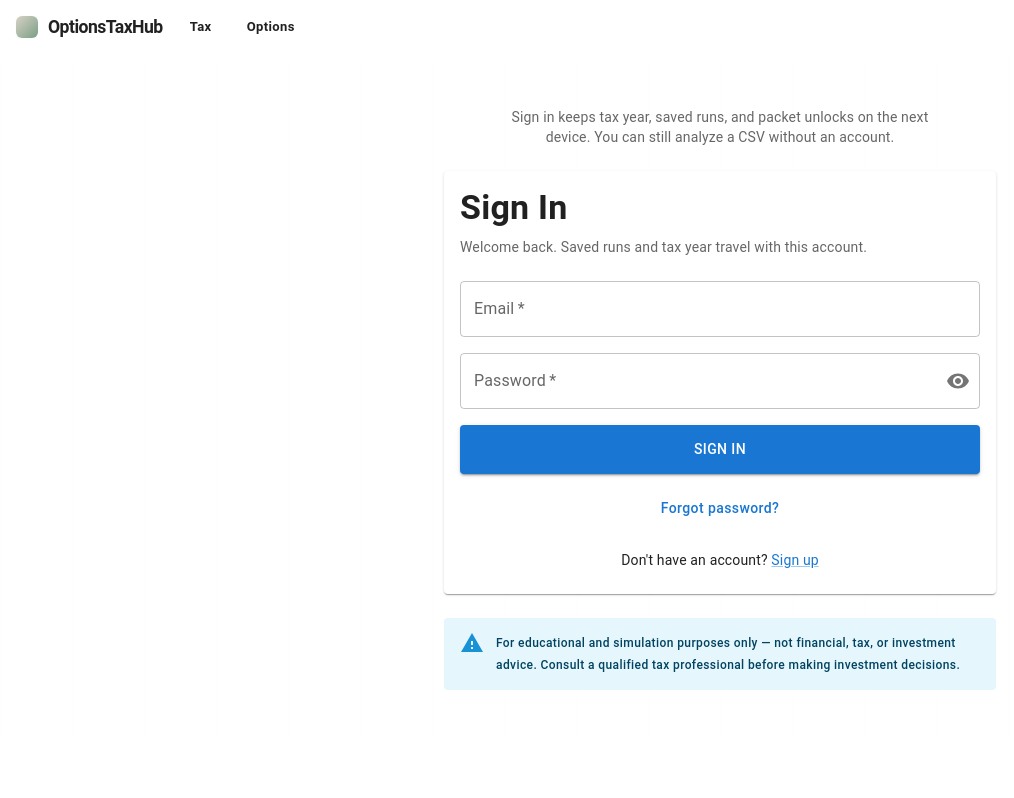
Test: Sign In Page › shows a resend-confirm control when the account is unconfirmed
Type "new@example.com" into the field labelled "Email *". click: {"x": 720, "y": 309}
box: [460,281,980,337]
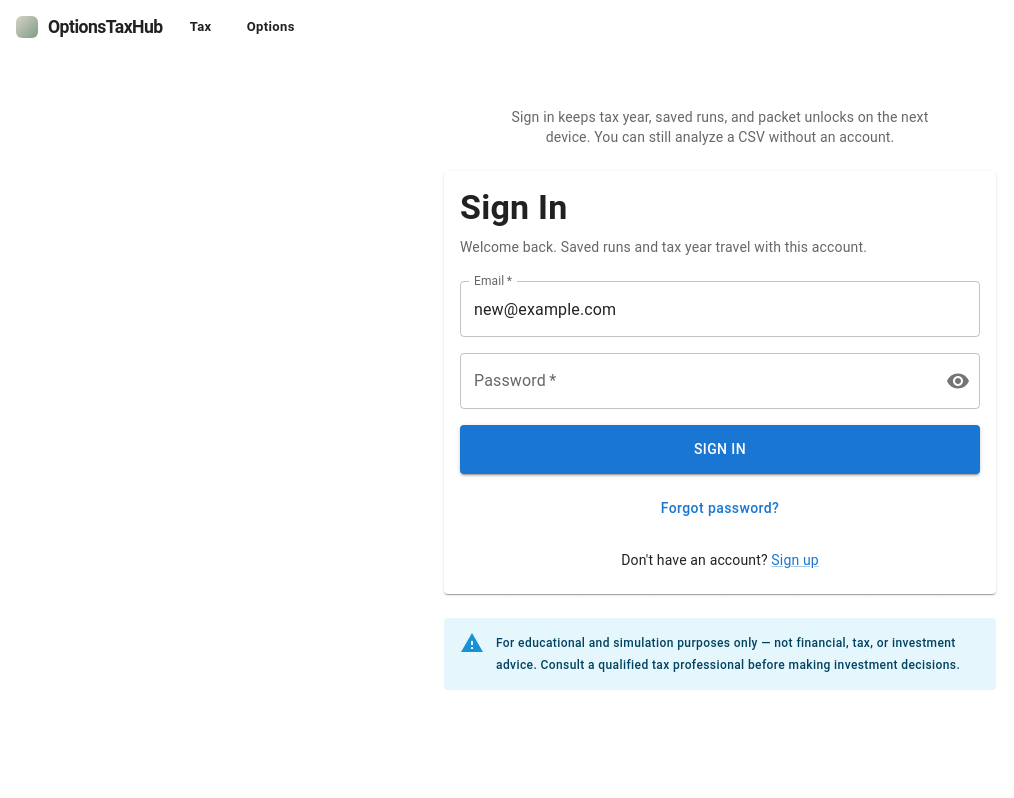
Type "password123" into the password field labelled "Password *". click: {"x": 695, "y": 381}
box: [460,353,930,409]
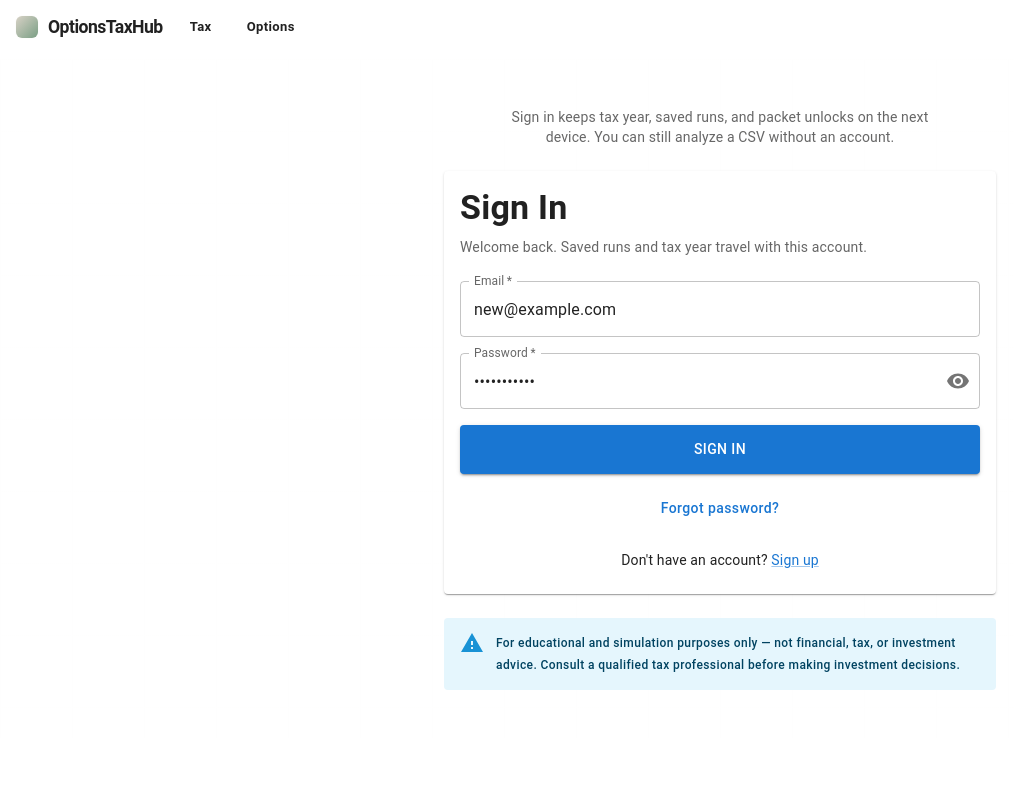
Submit the form, box [460,281,980,526]
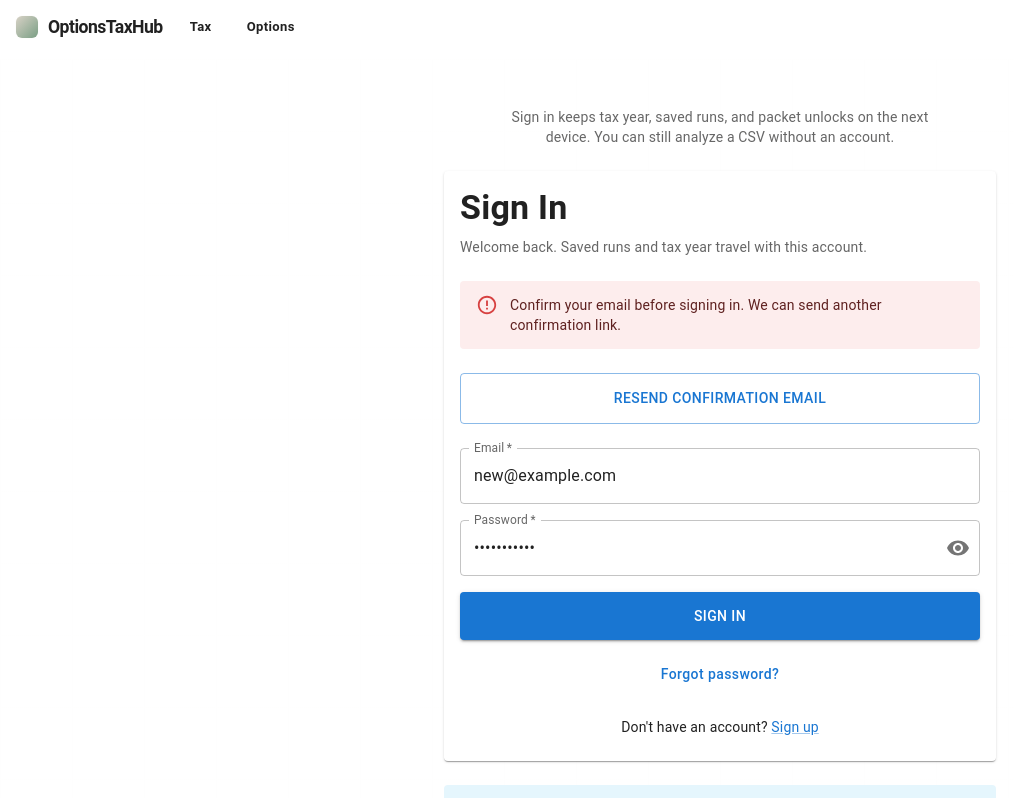
expect the text "Confirm your email before signing in" is shown: met, box [510,297,882,333]
expect the button "Resend confirmation email" is shown: met, box [460,373,980,424]
